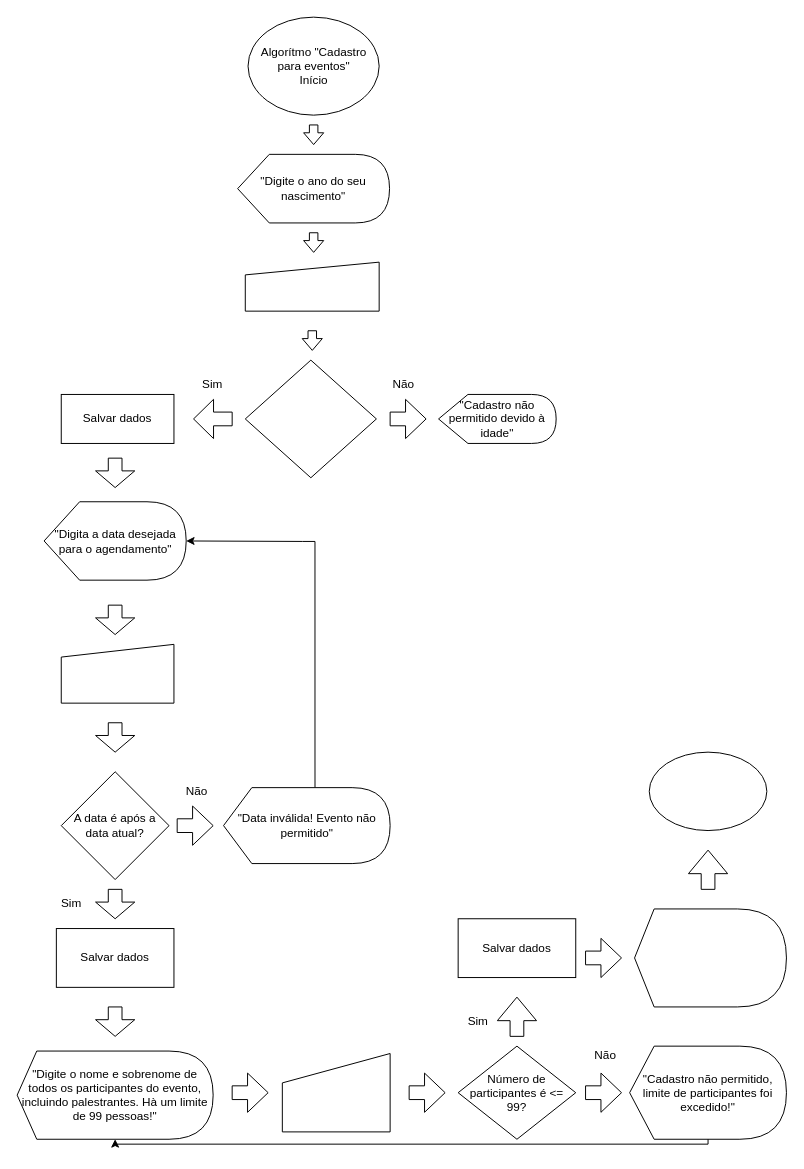
This 804x1169 diagram has some shape labels left out. Here are the shapes that lost their labels. From the top down, the centre of each, then its label:
point (311, 286): Ano de nascimento
point (310, 418): Ano atual - Ano de nascimento >= 18?
point (117, 673): Data para agendamento
point (707, 791): Fim!
point (710, 957): "Agendamento realizado com sucesso!"
point (335, 1092): Lista de participantes
